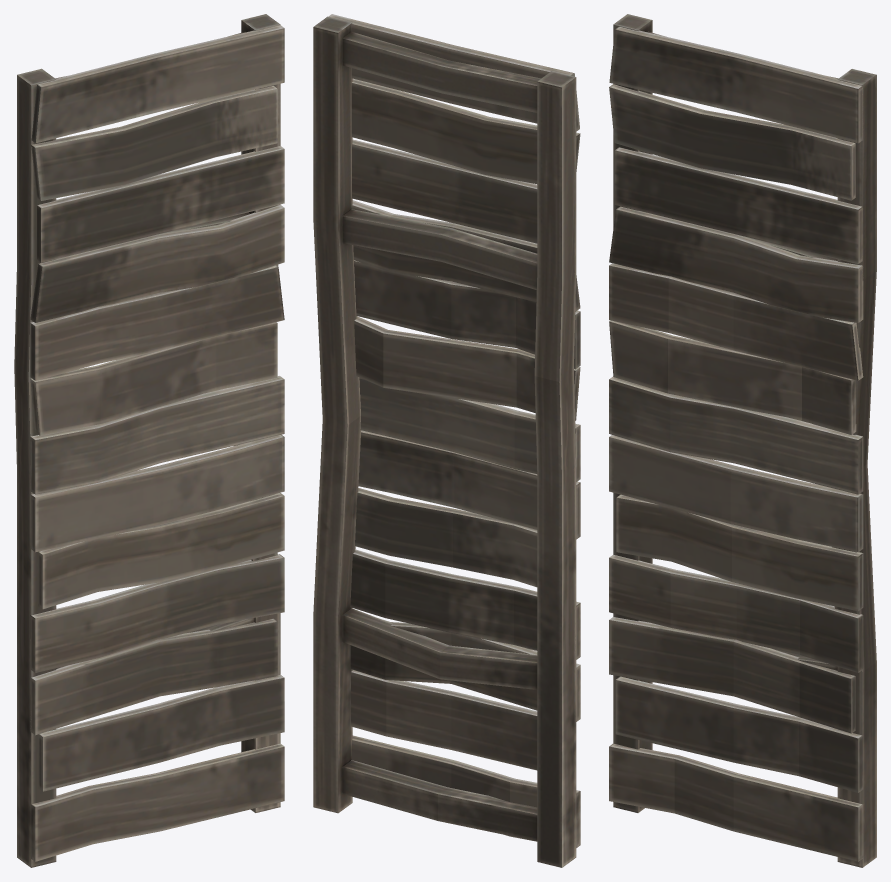
The model's file is Wood_Wall_1x.glb.
The picture shows the model from 3 angles, left to right: view 1: azimuth 30°, elevation 25°; view 2: azimuth 150°, elevation 25°; view 3: azimuth 330°, elevation 25°; orthographic projection.
Parts seen in each view (by area): view 1: Wood_Wall_1x; view 2: Wood_Wall_1x; view 3: Wood_Wall_1x.
Part boxes in pixels (<box>): Wood_Wall_1x: <box>14,14,284,867</box>; Wood_Wall_1x: <box>313,14,580,867</box>; Wood_Wall_1x: <box>609,14,876,867</box>.
Size of what is drawn, in the model's own units: 1 by 3 by 0.1694.
1 material, 1 textured.
